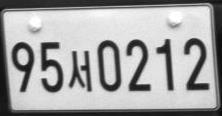0: (96, 39, 122, 92)
1: (154, 37, 182, 91)
2: (182, 37, 210, 91), (125, 39, 151, 91)
5: (39, 42, 64, 93)
9: (10, 40, 35, 93)
서: (68, 50, 92, 92)
